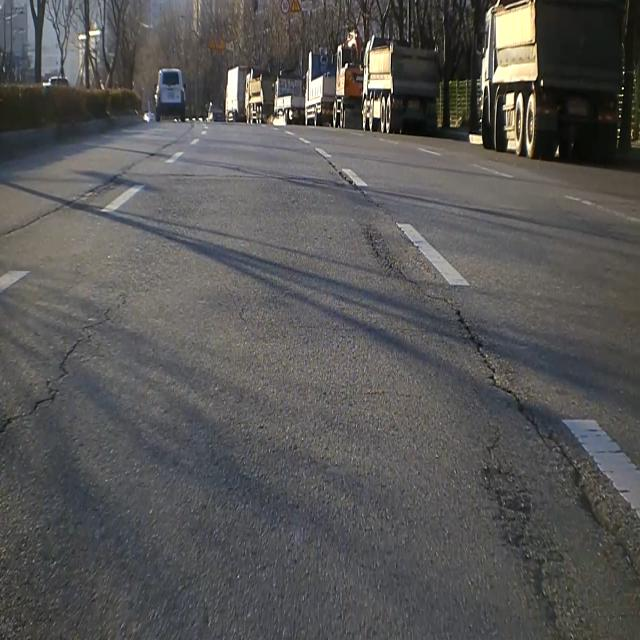Pothole: (451, 305, 640, 583), (472, 426, 574, 640), (363, 223, 402, 279)
